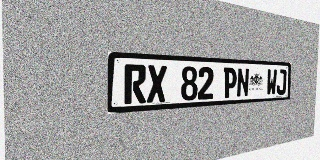2: (198, 67, 214, 100)
8: (181, 66, 198, 101)
J: (276, 69, 287, 95)
N: (236, 68, 249, 97)
P: (223, 67, 237, 98)
R: (124, 64, 146, 104)
W: (266, 69, 277, 96)
X: (147, 65, 167, 103)
